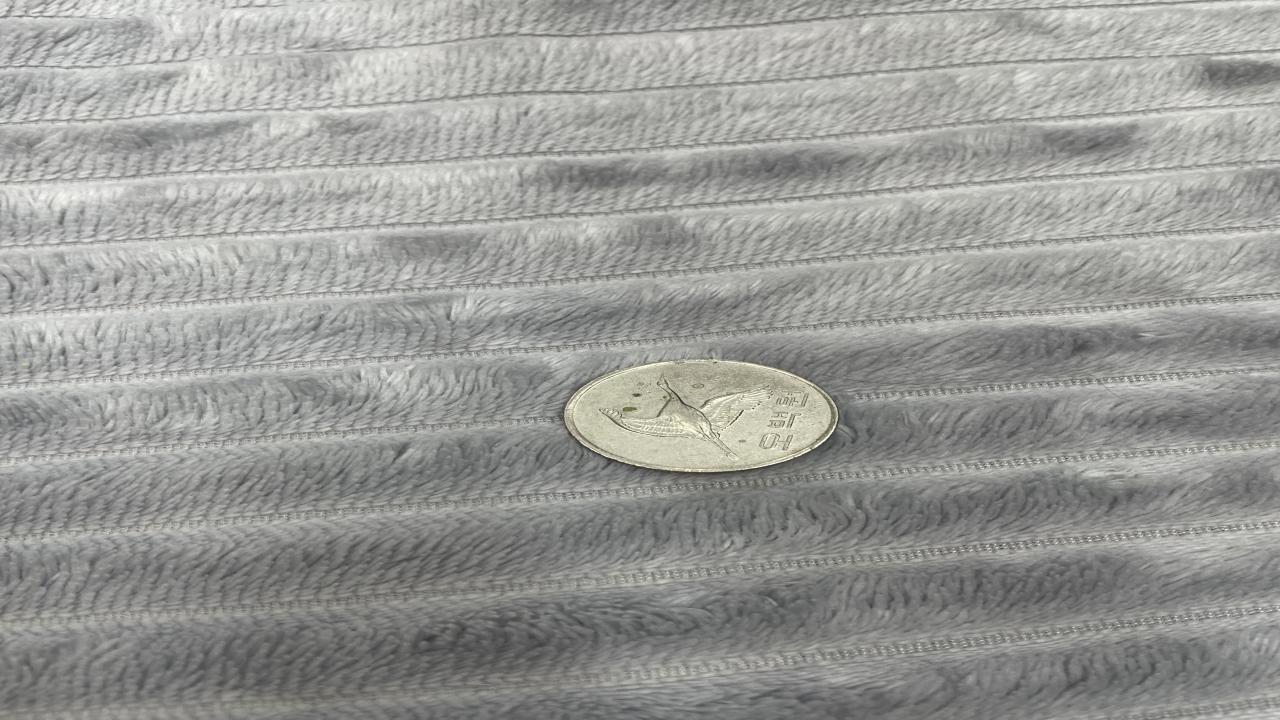coin: (563, 358, 844, 472)
